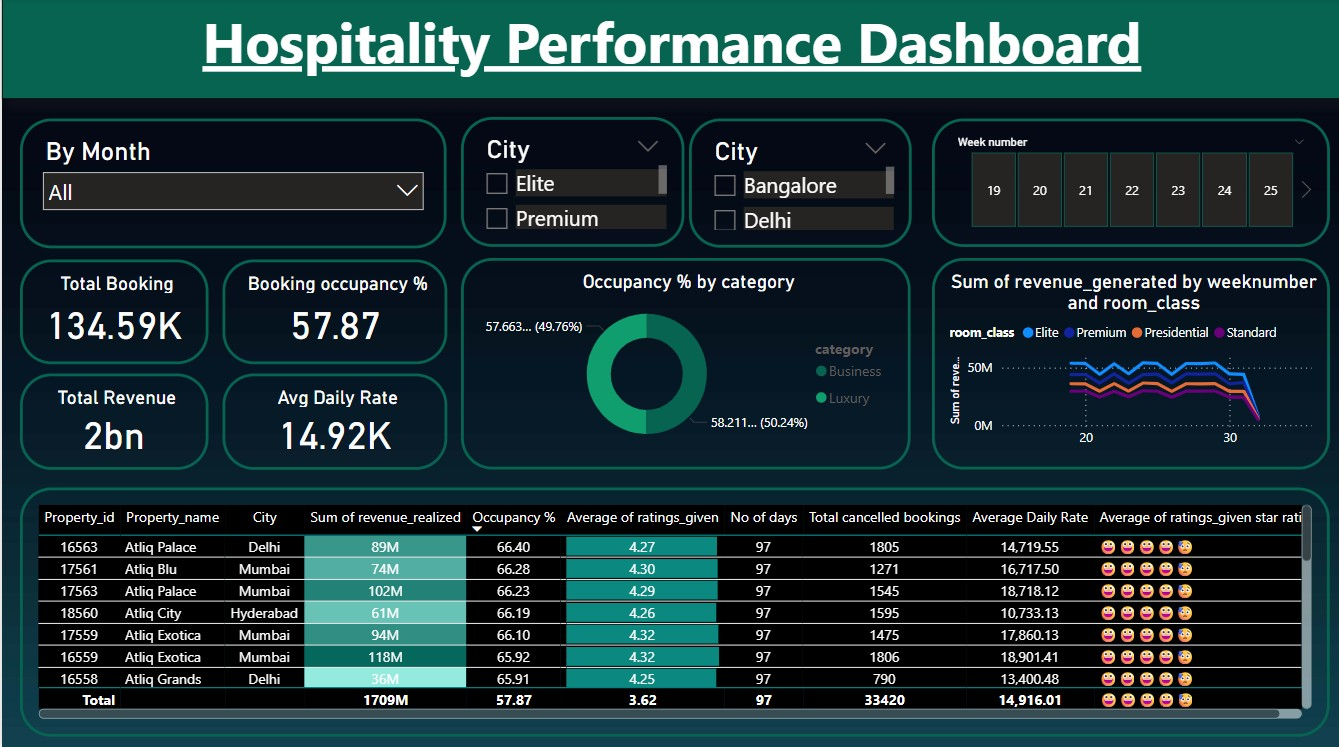

What the dashboard file says about the page in this screenshot:
{"tool":"powerbi","page":{"name":"Page 1","canvas":[1280,720],"ordinal":0},"visuals":[{"type":"textbox","box":[0,0,1280,97.2],"z":0},{"type":"slicer","fields":{"Values":["Sheet1.booking_date.Variation.Date Hierarchy.Month"]},"box":[17.5,116.1,407.2,124.1],"z":1000},{"type":"slicer","fields":{"Values":["03_hotel_Name_Data (2).city"]},"box":[656.2,115.4,212.7,123.5],"z":2000},{"type":"card","title":"Total Booking","fields":{"Values":["CountNonNull(Sheet1.booking_id)"]},"box":[17.5,251.3,179.7,100.2],"z":3000},{"type":"card","title":"Booking occupancy %","fields":{"Values":["04_fact_aggregated_bookings (2).Occupancy %"]},"box":[210,251.3,214.7,100.2],"z":4000},{"type":"card","title":"Total Revenue","fields":{"Values":["Sum(Sheet1.revenue_generated)"]},"box":[17.5,359.5,179.7,92.3],"z":5000},{"type":"card","title":"Avg Daily Rate","fields":{"Values":["04_fact_aggregated_bookings (2).Average Daily Rate"]},"box":[210,359.5,214.7,92.3],"z":6000},{"type":"donutChart","fields":{"Y":["04_fact_aggregated_bookings (2).Occupancy %"],"Category":["03_hotel_Name_Data (2).category"]},"box":[439,249.7,429.5,202],"z":7000},{"type":"slicer","fields":{"Values":["Sheet1.weeknumber"]},"box":[887.6,116.1,380.2,122.5],"z":8000},{"type":"lineChart","fields":{"Category":["Sheet1.weeknumber"],"Y":["Sum(Sheet1.revenue_generated)"],"Series":["02_Rooms_Project_Data_ (2).room_class"]},"box":[887.6,249.7,380.2,202],"z":9000},{"type":"tableEx","fields":{"Values":["03_hotel_Name_Data (2).property_id","03_hotel_Name_Data (2).property_name","03_hotel_Name_Data (2).city","Sum(Sheet1.revenue_realized)","04_fact_aggregated_bookings (2).Occupancy %","Avg(Sheet1.ratings_given)","02_Rooms_Project_Data_ (2).No of days","02_Rooms_Project_Data_ (2).Total cancelled bookings","04_fact_aggregated_bookings (2).Average Daily Rate","02_Rooms_Project_Data_ (2).Average of ratings_given star rating"]},"box":[17.2,468.4,1250.5,237.8],"z":10000},{"type":"slicer","fields":{"Values":["02_Rooms_Project_Data_ (2).room_class"]},"box":[439,114.5,213.1,124.1],"z":11000}]}

Visuals, with their boxes in screenshot pixels (x1, y1, x2, y2), scaled from the page's 1280x720 canvas onto the 1339x747 screenshot:
textbox: [0, 0, 1338, 101]
slicer - Sheet1.booking_date.Variation.Date Hierarchy.Month: [18, 120, 444, 249]
slicer - 03_hotel_Name_Data (2).city: [686, 120, 909, 248]
"Total Booking" card: [18, 261, 206, 365]
"Booking occupancy %" card: [220, 261, 444, 365]
"Total Revenue" card: [18, 373, 206, 469]
"Avg Daily Rate" card: [220, 373, 444, 469]
donutChart - 04_fact_aggregated_bookings (2).Occupancy % x 03_hotel_Name_Data (2).category: [459, 259, 909, 469]
slicer - Sheet1.weeknumber: [929, 120, 1326, 248]
lineChart - Sheet1.weeknumber x Sum(Sheet1.revenue_generated): [929, 259, 1326, 469]
tableEx - 03_hotel_Name_Data (2).property_id x 03_hotel_Name_Data (2).property_name: [18, 486, 1326, 733]
slicer - 02_Rooms_Project_Data_ (2).room_class: [459, 119, 682, 248]
